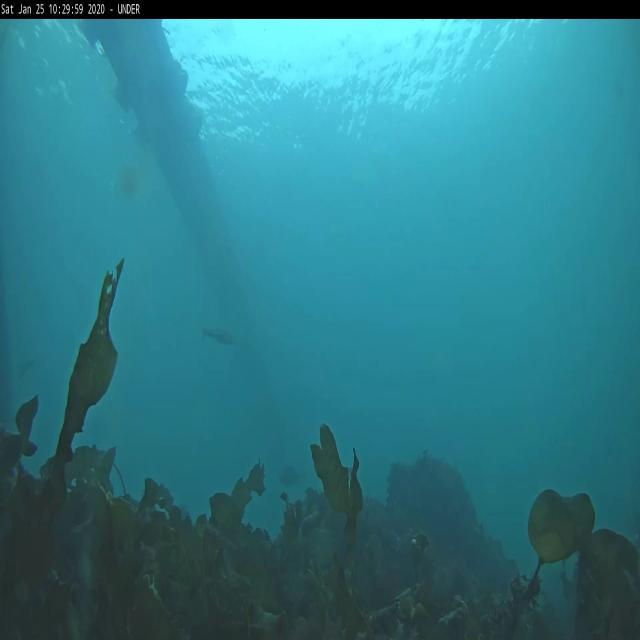fish: (198, 318, 236, 354), (279, 464, 304, 488)
